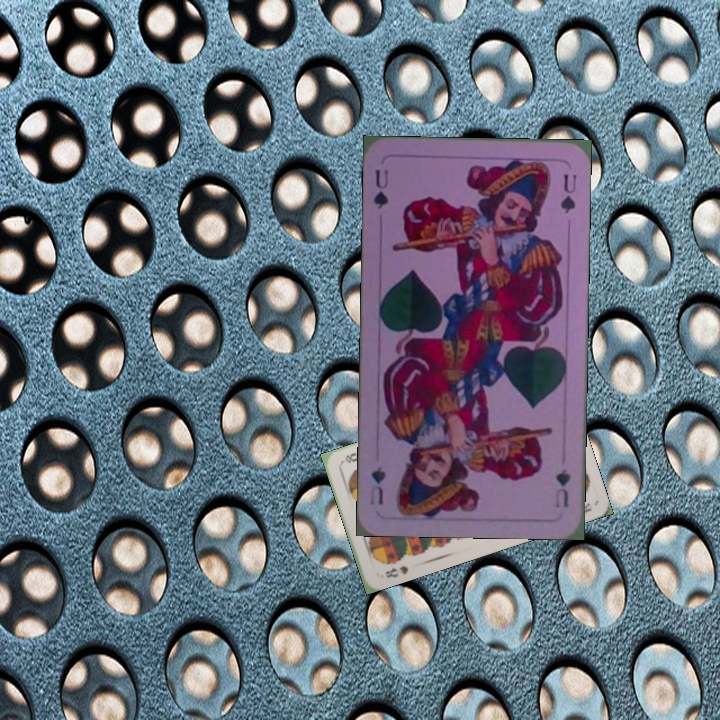GU: (369, 165, 391, 212), (551, 465, 573, 510)
S8: (381, 562, 411, 580)
